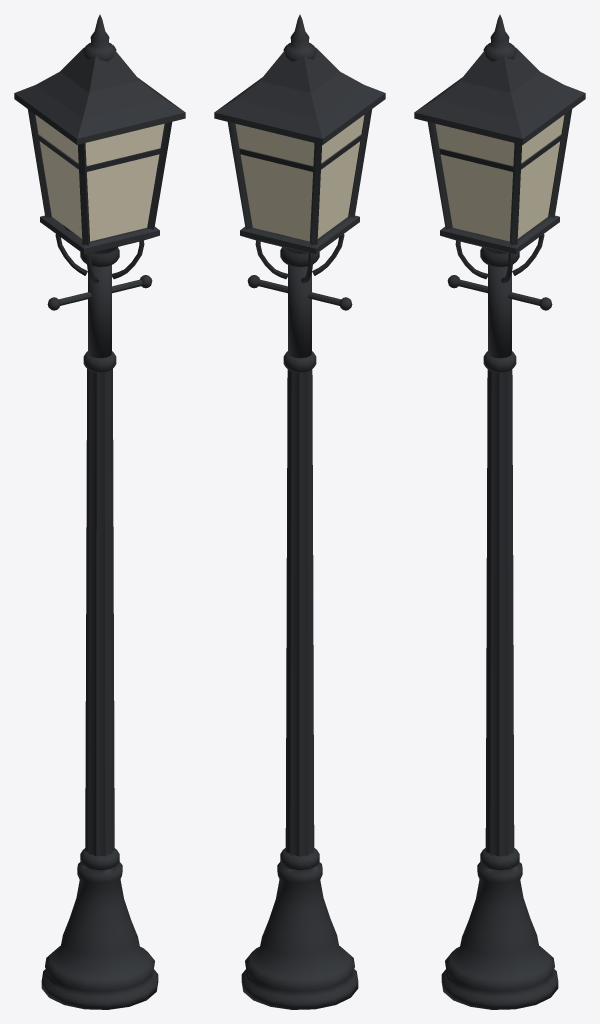
Rendered from lampPost.glb.
The picture shows the model from 3 angles, left to right: view 1: azimuth 30°, elevation 25°; view 2: azimuth 150°, elevation 25°; view 3: azimuth 330°, elevation 25°; orthographic projection.
Parts seen in each view (by area): view 1: lampPost; view 2: lampPost; view 3: lampPost.
Boxes of the visible parts, <box> form: lampPost: <box>14,14,185,1009</box>; lampPost: <box>214,14,385,1009</box>; lampPost: <box>414,14,585,1009</box>.
Bounding box in the file's own units: 0.32 × 2.73 × 0.32.
